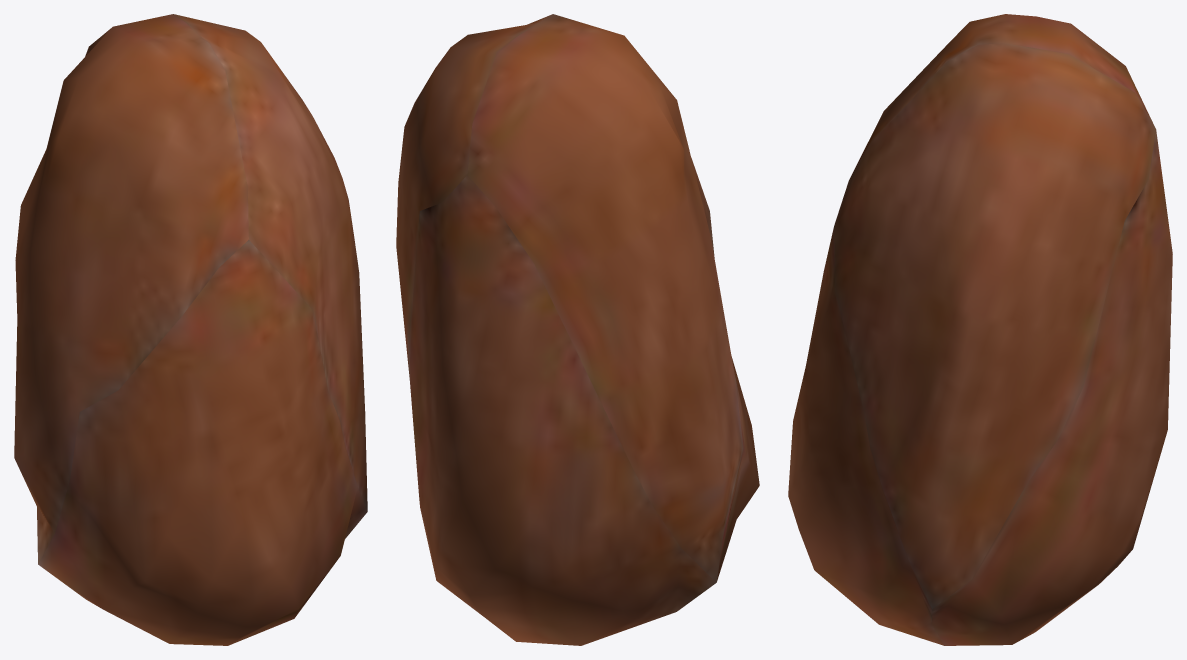
Rendered from Canyon_Rock_Boulders_2.glb.
3 views of the same model, side by side, from view 1: azimuth 30°, elevation 25°; view 2: azimuth 150°, elevation 25°; view 3: azimuth 270°, elevation 25° (orthographic). The views are drawn at different scales.
Visible parts, largest first — view 1: Canyon_Rock_Boulders_2_0; view 2: Canyon_Rock_Boulders_2_0; view 3: Canyon_Rock_Boulders_2_0.
Boxes of the visible parts, bbox=[...] form: Canyon_Rock_Boulders_2_0: bbox=[14, 14, 367, 645]; Canyon_Rock_Boulders_2_0: bbox=[396, 14, 759, 645]; Canyon_Rock_Boulders_2_0: bbox=[788, 14, 1172, 645].
Size of the model in its own units: 2.53 by 4.37 by 2.58.
Materials: 1 (1 with a texture image).
